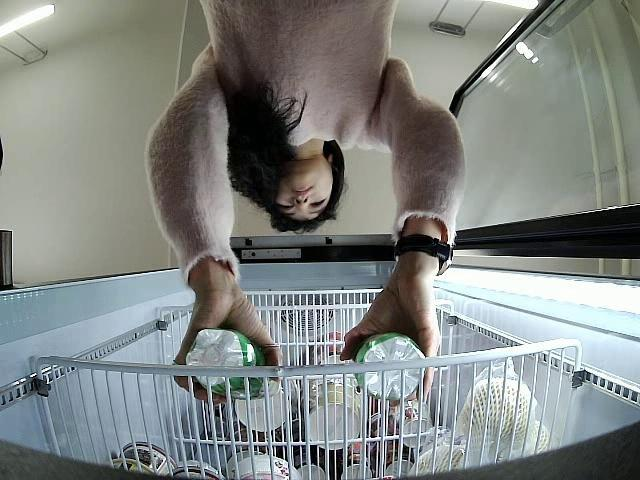18_trevi: (185, 329, 272, 402), (354, 332, 427, 404)
